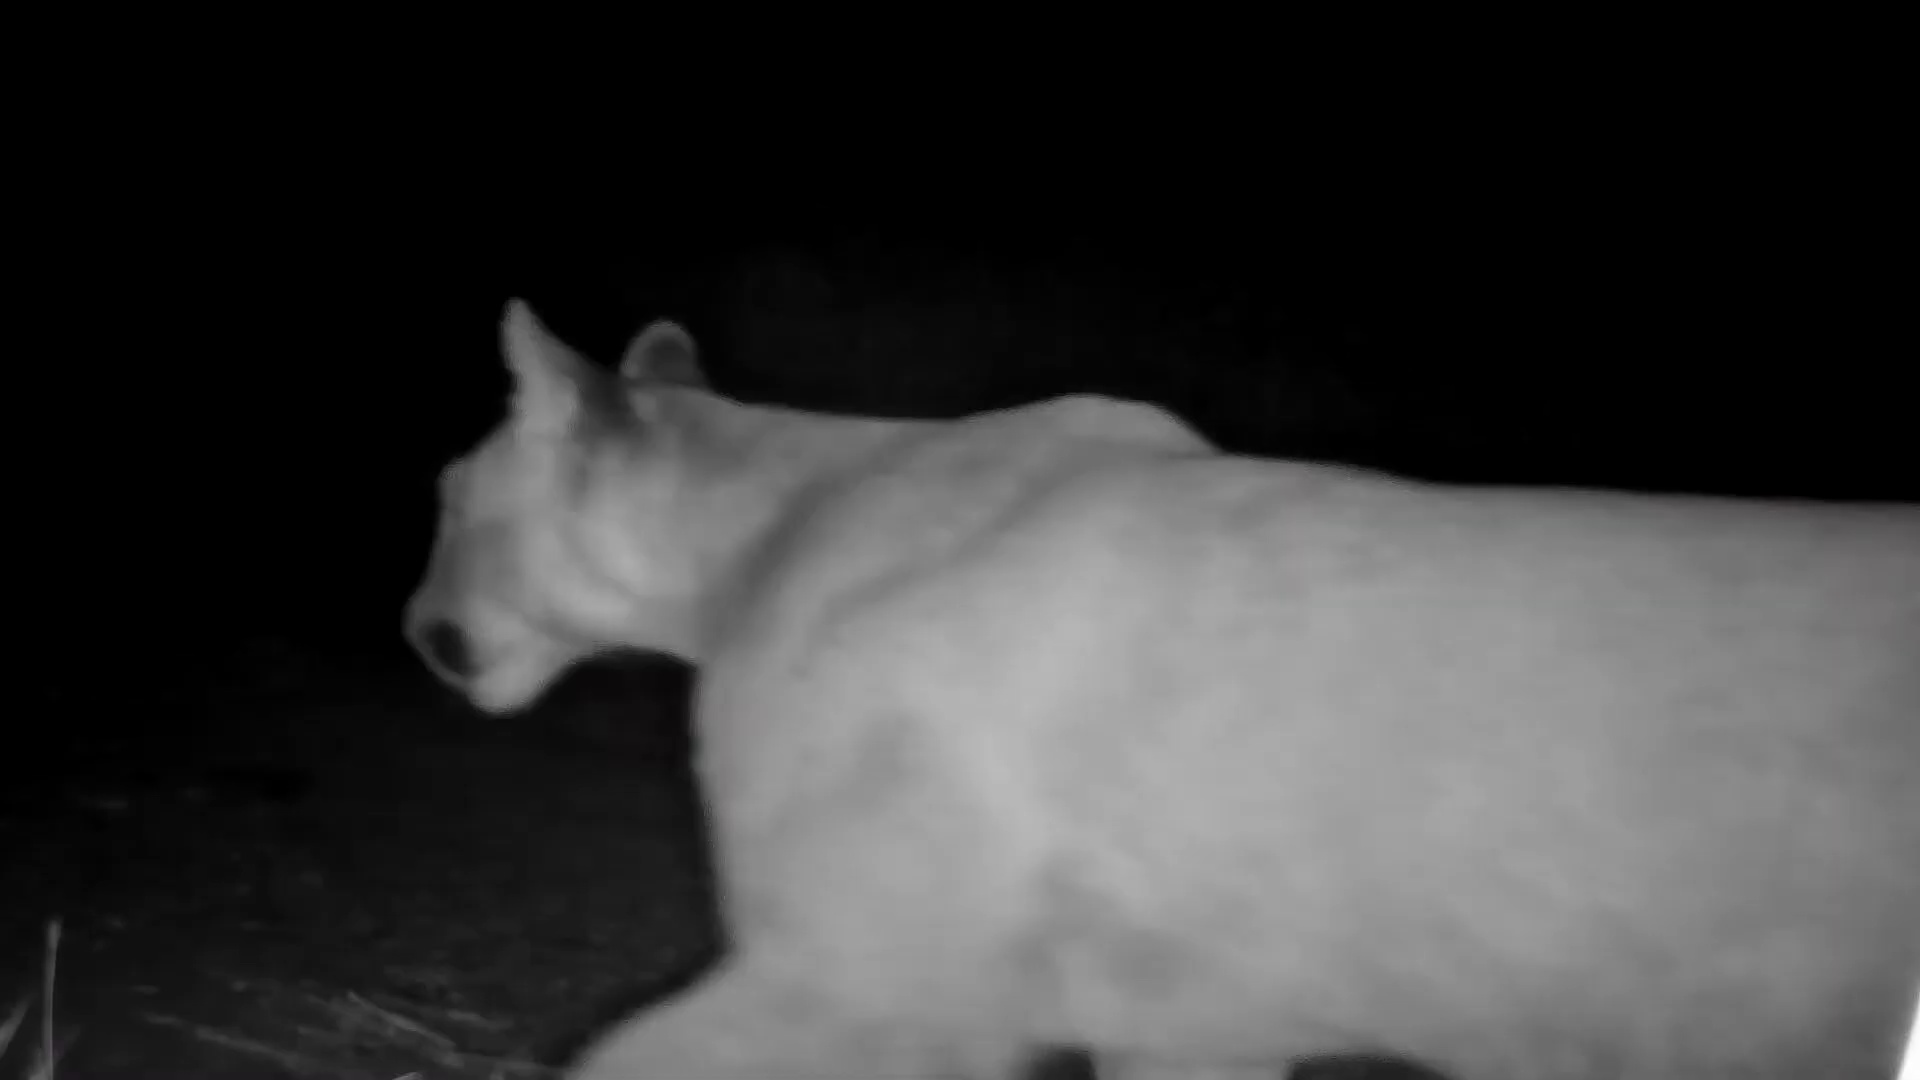Lion: (396, 295, 1920, 1080)
